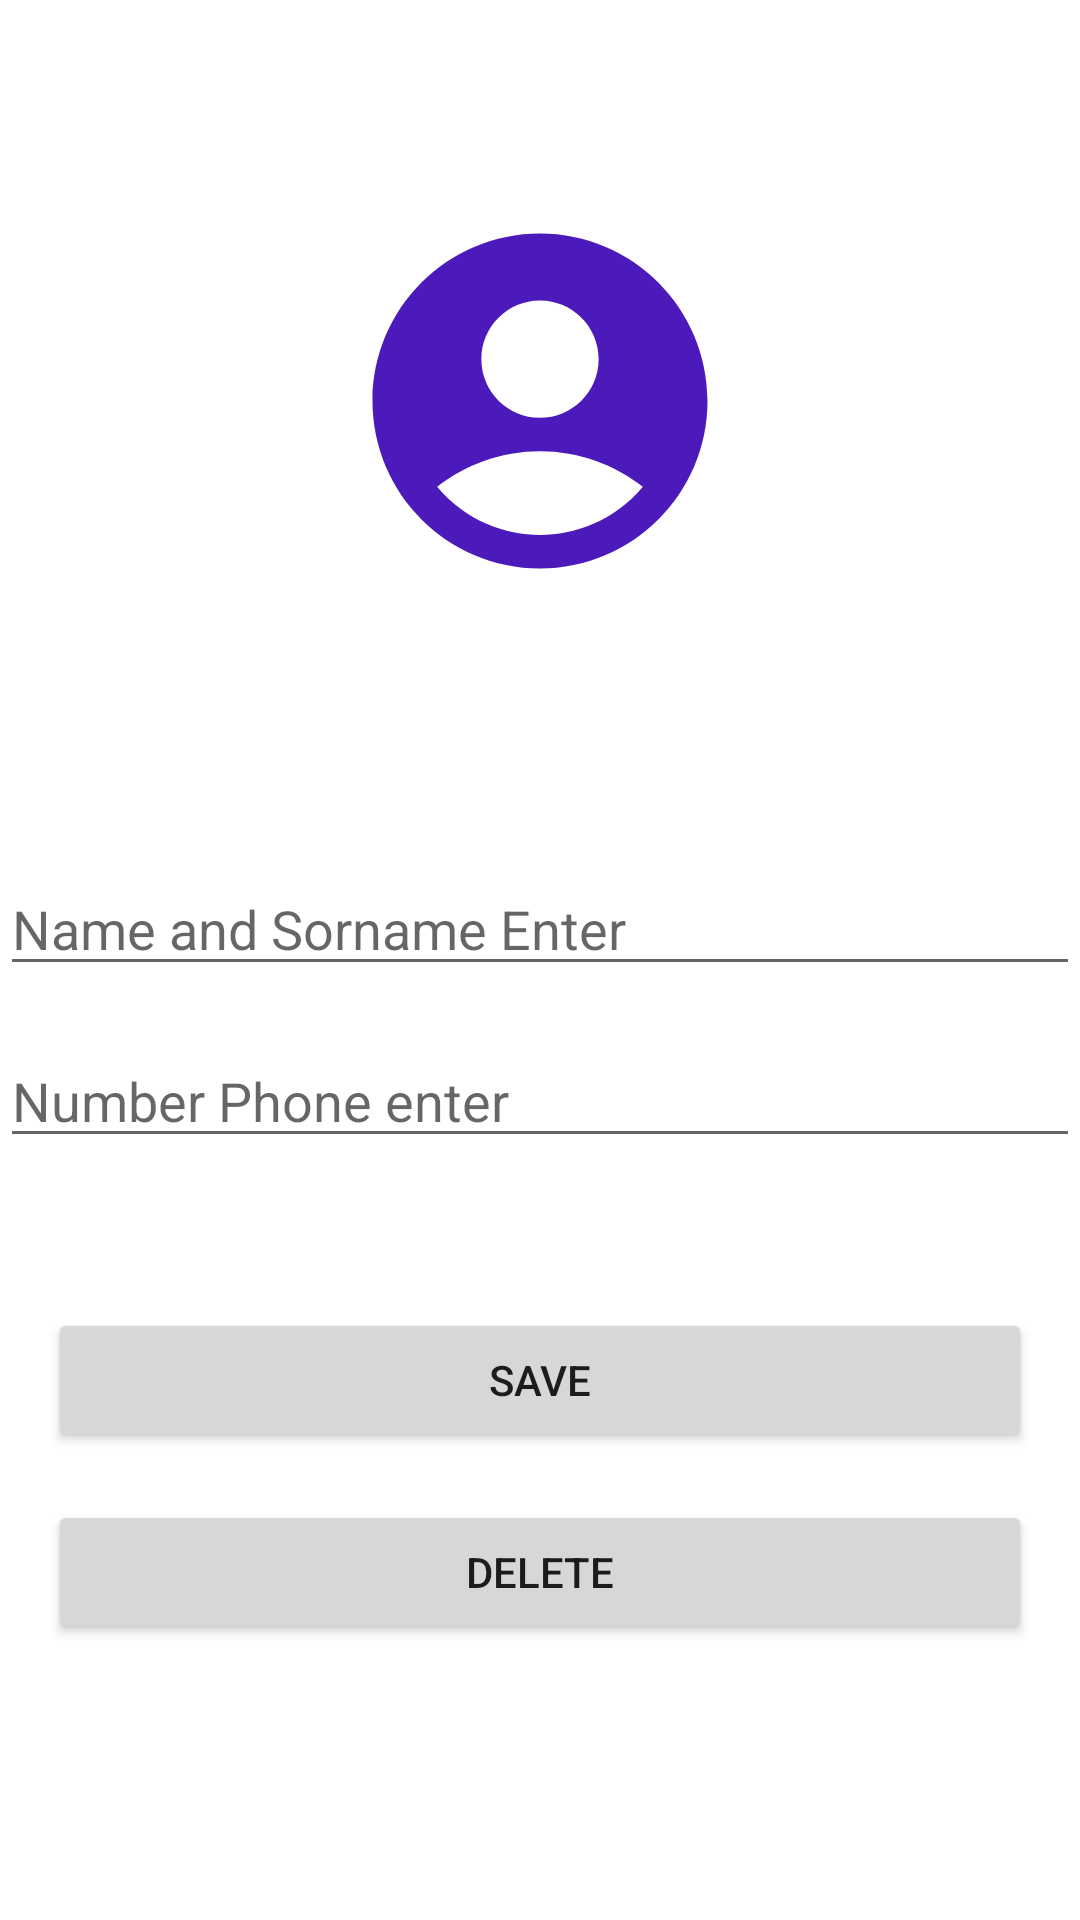

Icons on this 1080w x 1920h Android screen, each with its box as [x1=x1, y1=y1, x2=x2, y2=y2]:
kisi: [x1=372, y1=233, x2=708, y2=569]
